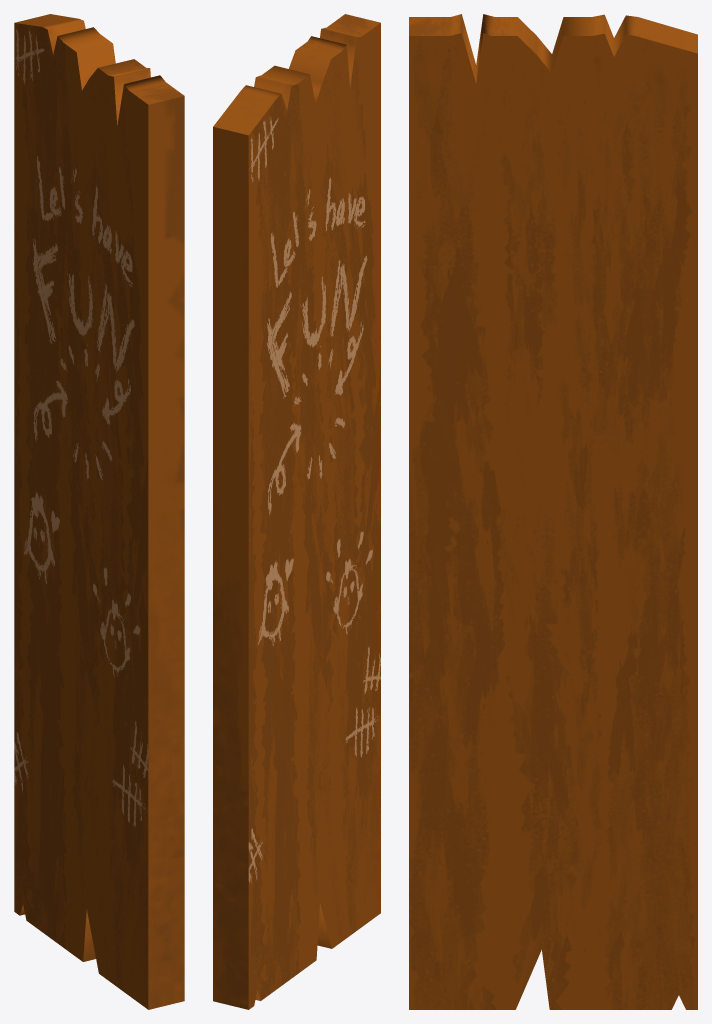
Rendered from Props_Planche2.fbx.
3 renders of one model, left to right at view 1: azimuth 30°, elevation 25°; view 2: azimuth 150°, elevation 25°; view 3: azimuth 270°, elevation 25°, orthographic. The views are drawn at different scales.
Visible parts, largest first — view 1: Planche2; view 2: Planche2; view 3: Planche2.
Boxes of the visible parts, x1,y1,x2,y2 form: Planche2: (14,14,184,1009); Planche2: (213,14,380,1009); Planche2: (409,14,697,1009).
Bounding box in the file's own units: 1 × 23.92 × 6.41.
